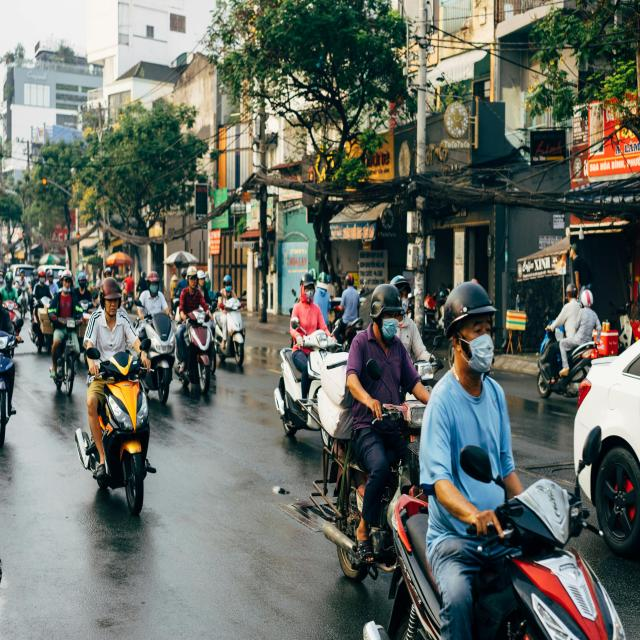car: (569, 328, 640, 558)
motorcycle: (379, 474, 629, 640), (85, 355, 156, 517), (274, 323, 328, 435), (539, 316, 591, 398), (182, 310, 220, 402), (144, 316, 177, 408), (51, 312, 81, 396), (213, 293, 247, 366), (0, 332, 19, 454)
person: (420, 281, 512, 539), (344, 284, 412, 502), (86, 276, 136, 358), (290, 270, 320, 366), (575, 286, 601, 347), (560, 280, 584, 343), (178, 260, 204, 316), (55, 264, 77, 318), (138, 272, 166, 312), (341, 270, 360, 322), (219, 267, 235, 304)
